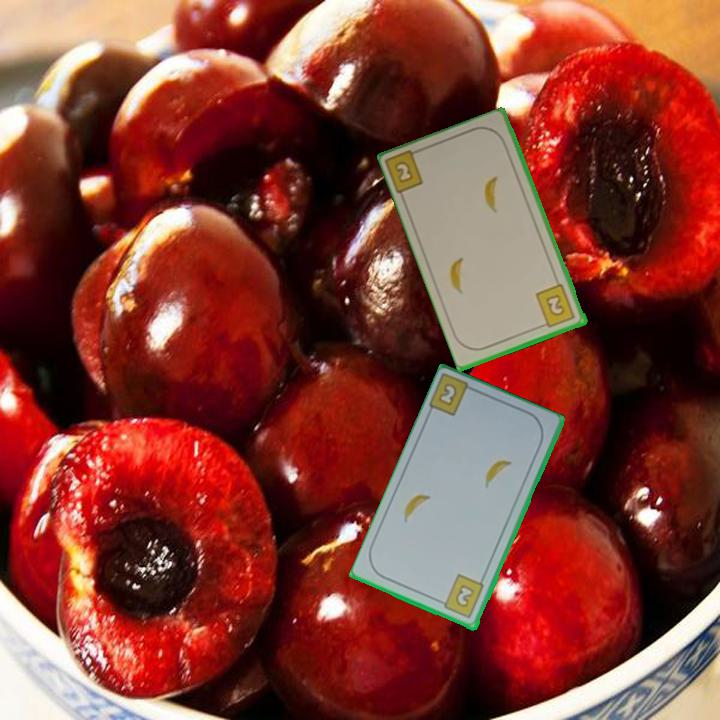2b: (435, 571, 487, 621), (532, 281, 578, 331), (384, 145, 427, 198), (435, 380, 460, 409)
